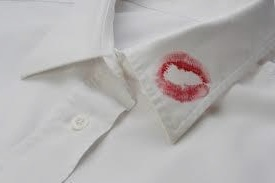lipstick: (157, 55, 217, 107)
